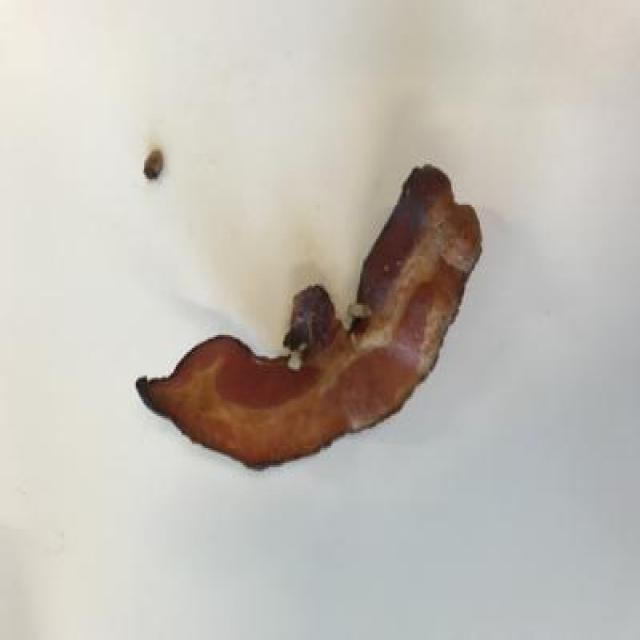compost: (117, 145, 506, 488)
